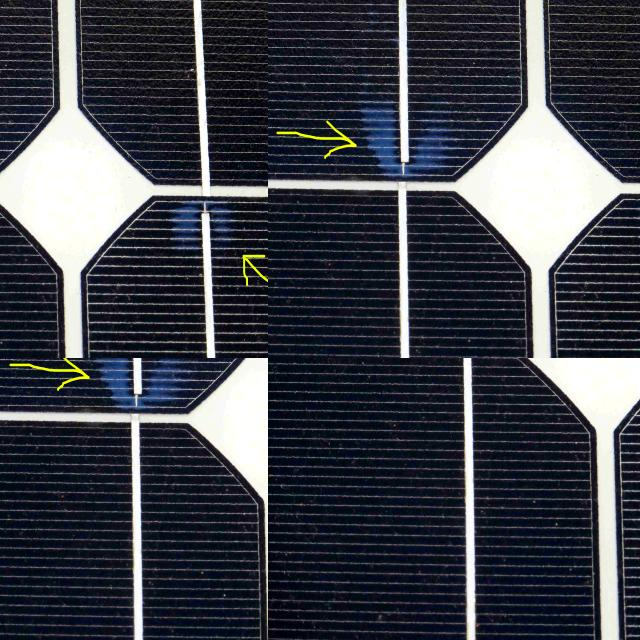bird: (0, 10, 8, 31), (0, 17, 7, 40), (0, 0, 11, 11), (0, 0, 6, 18), (0, 0, 8, 13), (0, 0, 10, 8), (0, 0, 7, 10), (0, 0, 5, 11), (0, 0, 6, 6), (0, 0, 5, 7), (0, 0, 6, 5)
crack: (0, 358, 38, 395), (0, 358, 32, 389)
hotspot: (285, 0, 344, 24)
shadow: (421, 358, 529, 410)
